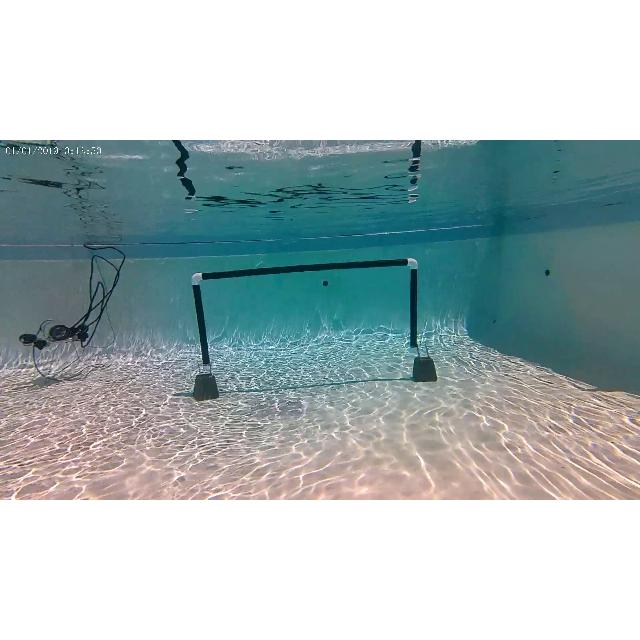prequal gate: (191, 258, 419, 372)
prequal gate leg l: (188, 264, 218, 388)
prequal gate leg r: (395, 254, 425, 370)
